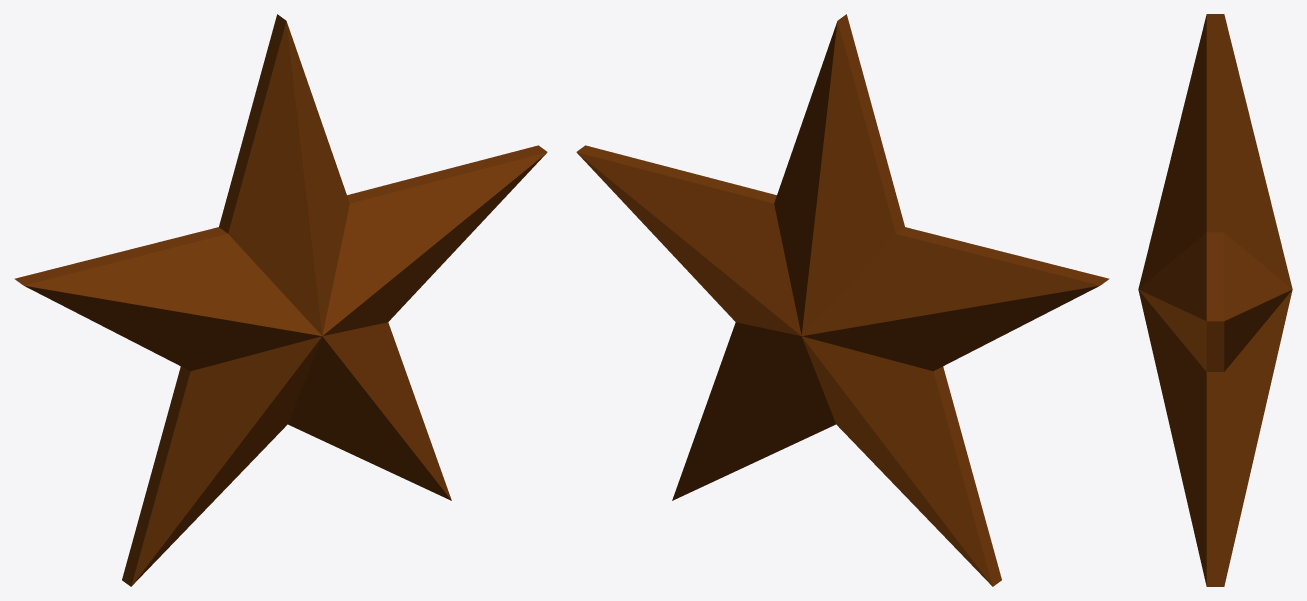
3 views of the same model, side by side, from view 1: azimuth 30°, elevation 25°; view 2: azimuth 150°, elevation 25°; view 3: azimuth 270°, elevation 25° (orthographic). The views are drawn at different scales.
Visible parts, largest first — view 1: Star_Plane.007; view 2: Star_Plane.007; view 3: Star_Plane.007.
Boxes of the visible parts, box(x1,y1,x2,y2) form: Star_Plane.007: box(14, 14, 547, 586); Star_Plane.007: box(576, 14, 1109, 586); Star_Plane.007: box(1138, 14, 1292, 586).
Bounding box in the file's own units: 0.642 × 0.6181 × 0.1718.
